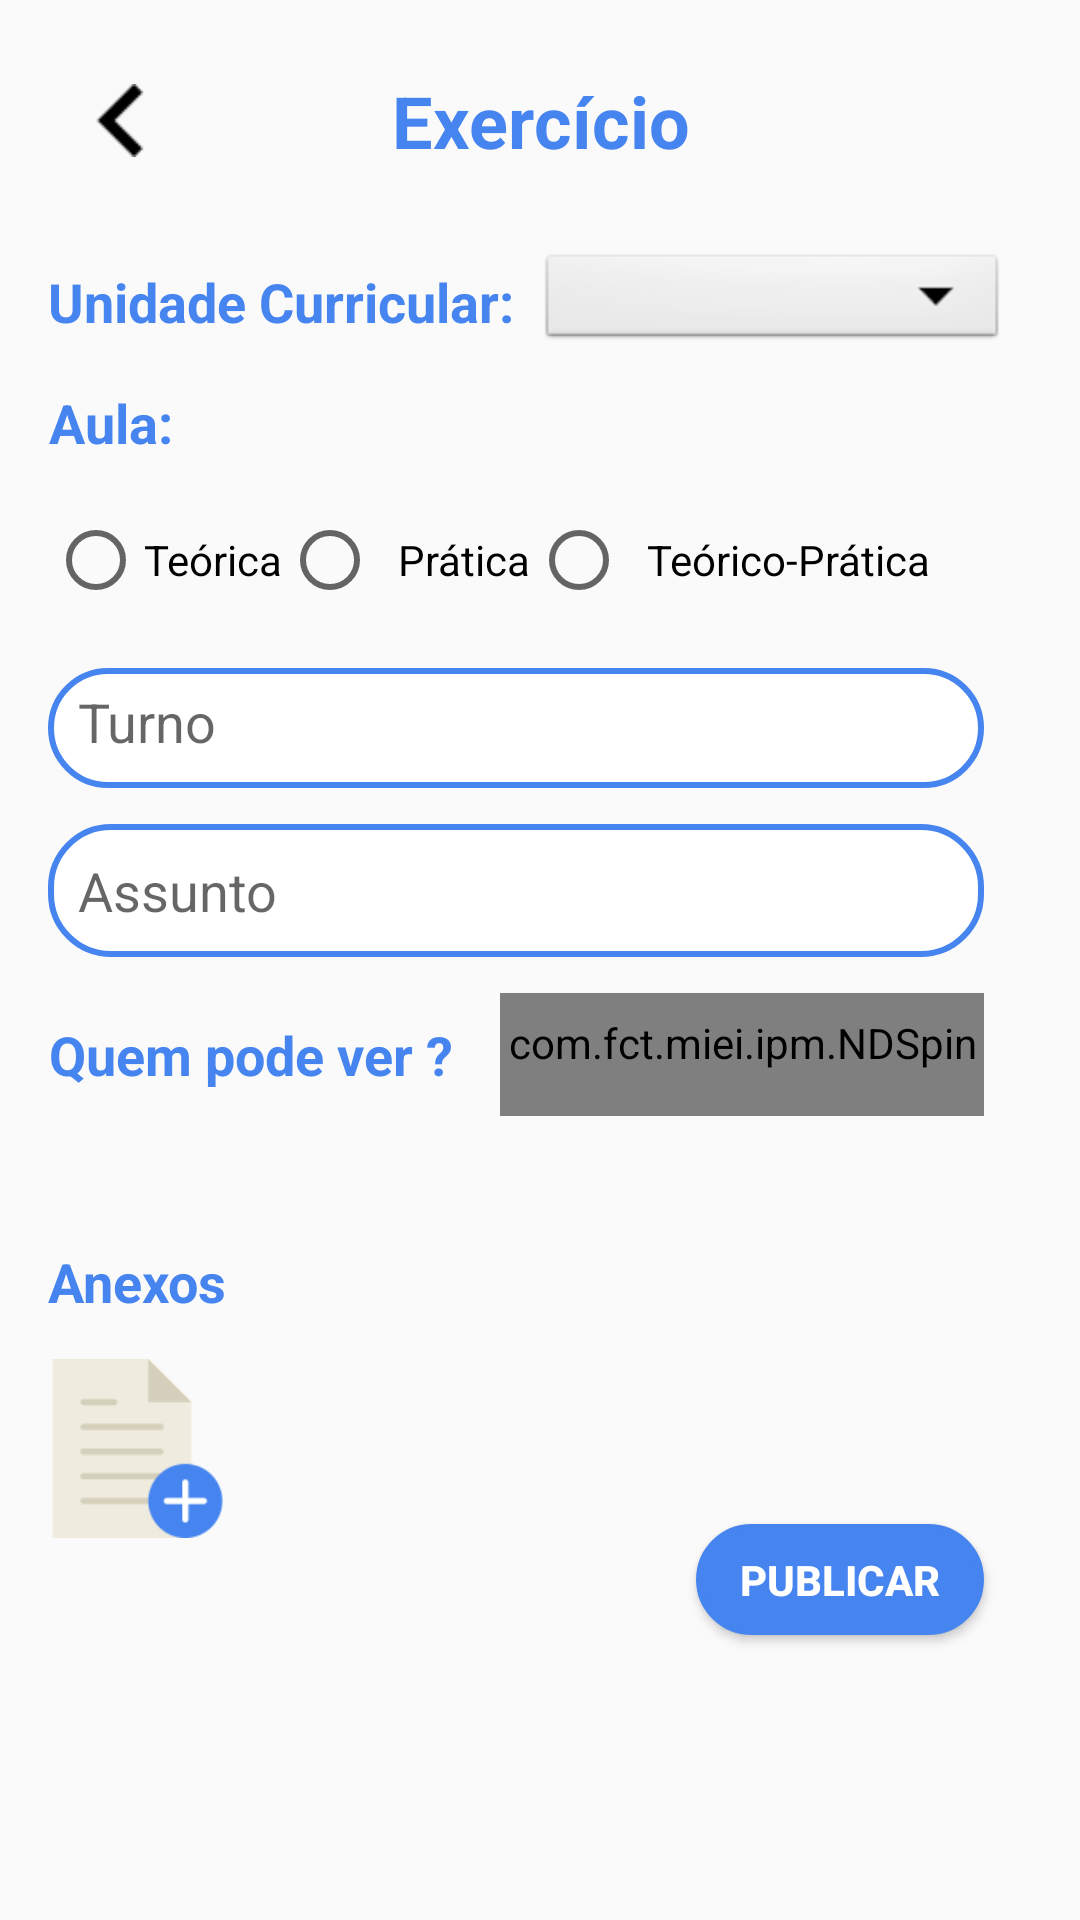

Icon click points for this 1080 × 1920 phone screenshot, format [x,y]:
backblack: [120,120]
fileadd: [138,1448]
